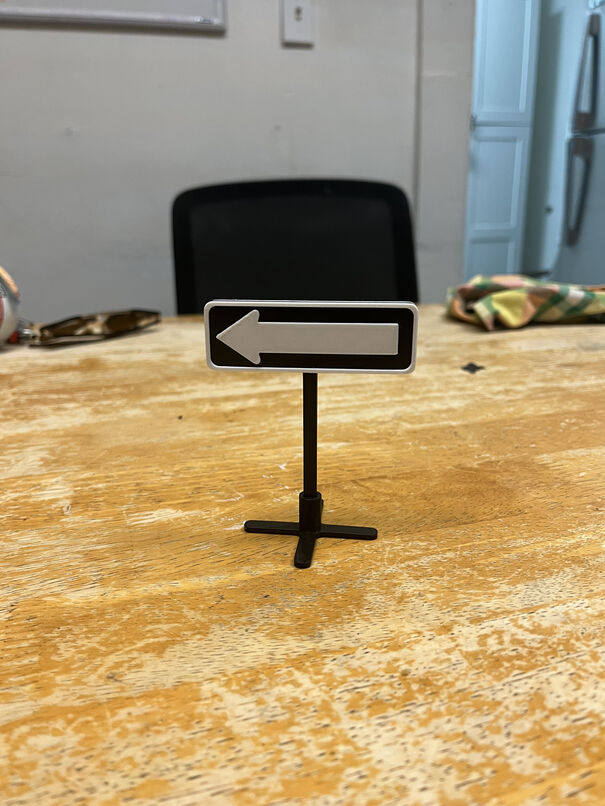sign_oneway_left: (195, 295, 429, 374)
